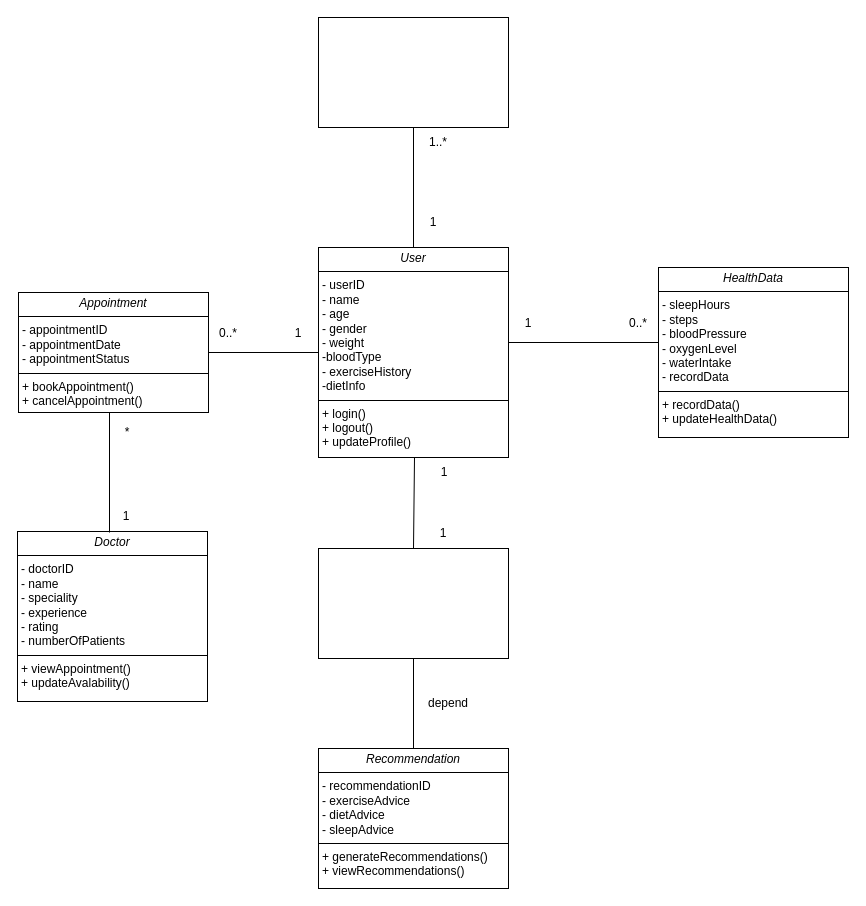
Some shapes in this 866 by 906 pixel diagram are drawn without their labels. Here are the shapes that lost their labels. From the top down, the centre of each, then its label:
At pixel 413 72: "EmergencyContact - contactName - contactPhone - relationship + notifyContact()".
At pixel 413 603: "HeallthScore - scoreValue - scoreStatus + calculateScore() + getHealthStatus()".
